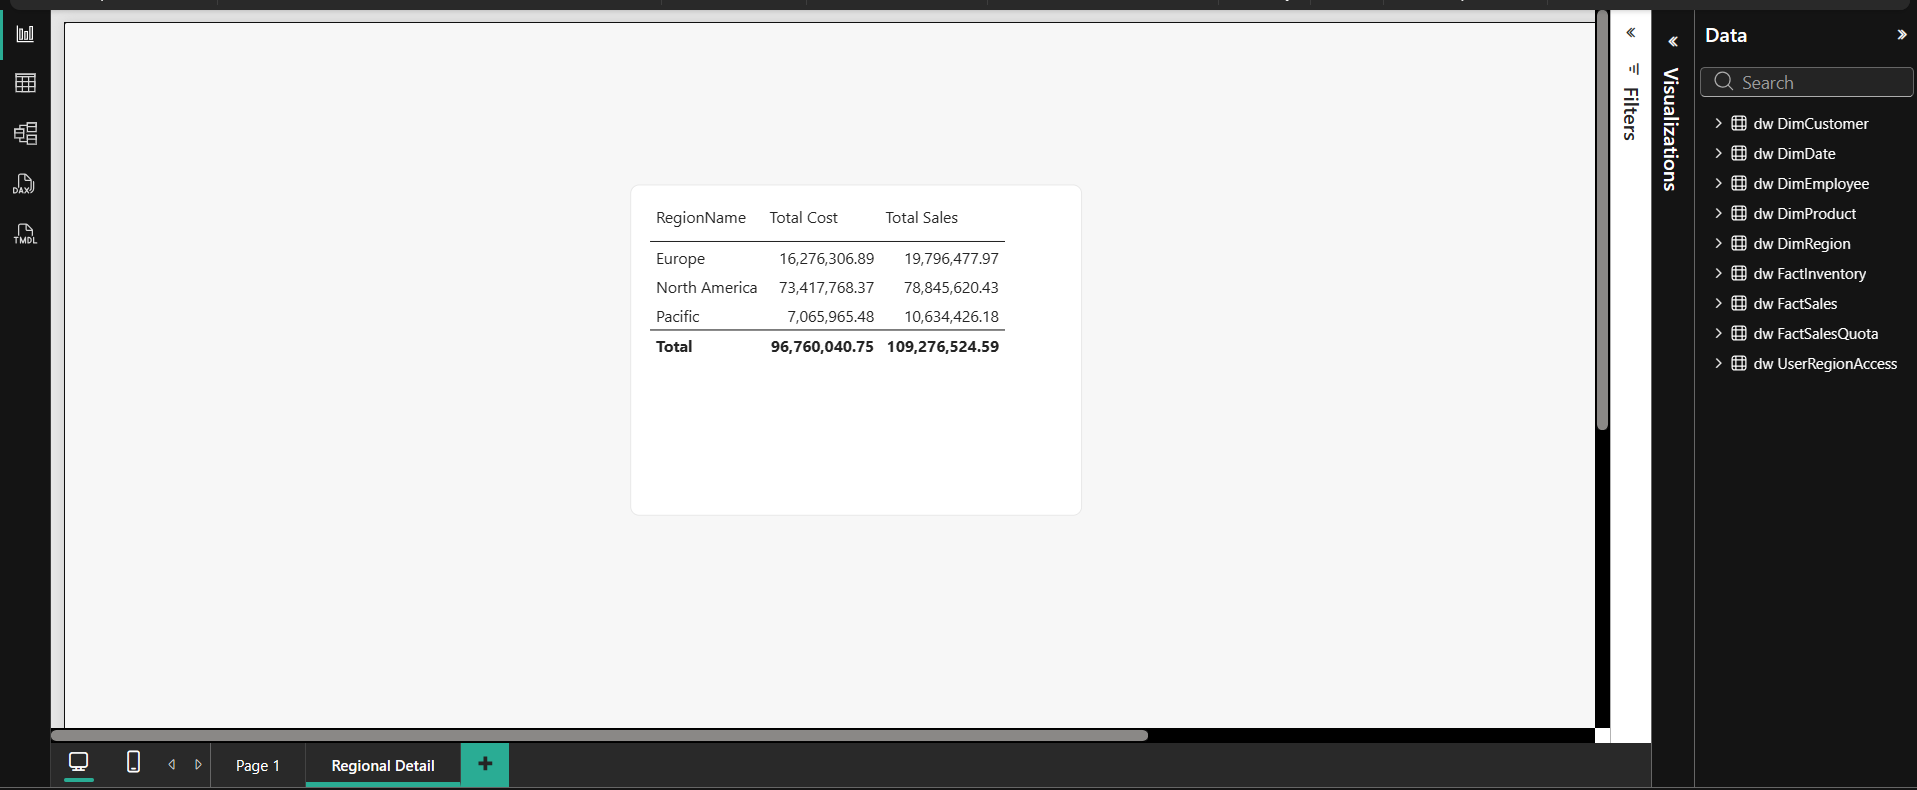

Layout of this report page (visuals, bound fields, positions):
{"tool":"powerbi","page":{"name":"Regional Detail","canvas":[1920,1080],"ordinal":1},"visuals":[{"type":"tableEx","fields":{"Values":["dw DimRegion.RegionName","dw DimCustomer.Total Cost","dw DimCustomer.Total Sales"]},"box":[503.3,144.4,401.2,294.5],"z":0}]}

Visuals, with their boxes on the page's 1920x1080 design canvas (x1, y1, x2, y2). These are canvas units, not pixel positions in the 1917x790 screenshot, which may show the page scaled, cropped or inside an application window:
tableEx - dw DimRegion.RegionName x dw DimCustomer.Total Cost: {"left": 503, "top": 144, "right": 904, "bottom": 439}
